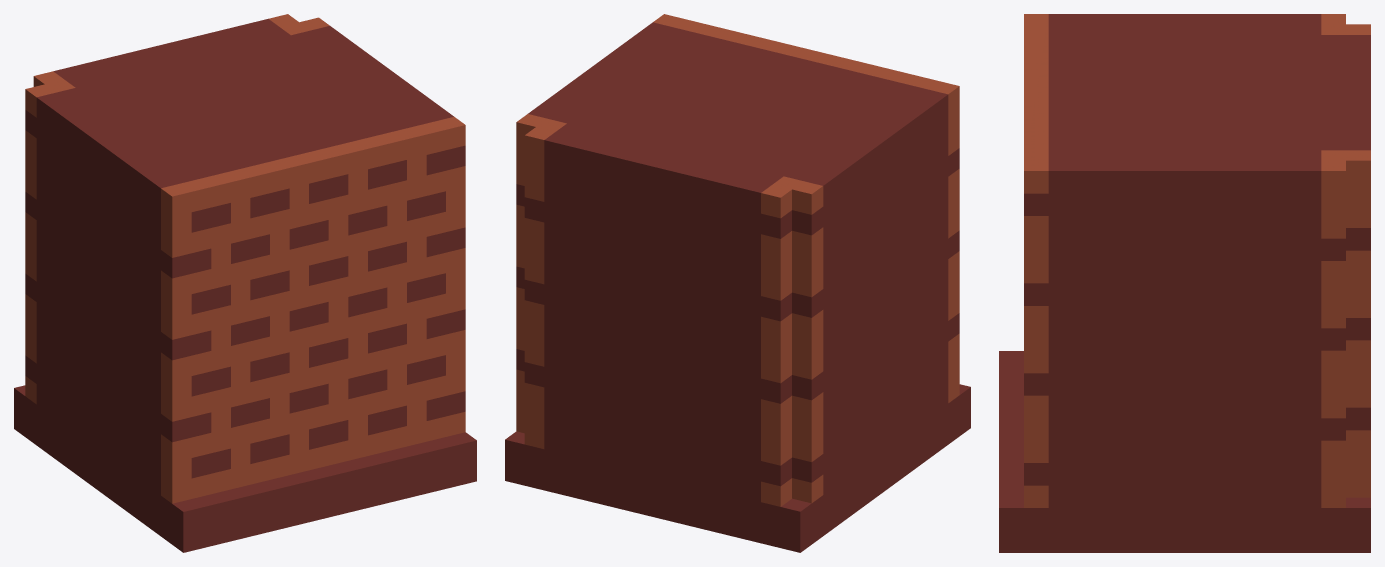
File: dungeon_b_b_inner_wall_segment_b.obj
3 renders of one model, left to right at view 1: azimuth 30°, elevation 25°; view 2: azimuth 150°, elevation 25°; view 3: azimuth 270°, elevation 25°, orthographic. The views are drawn at different scales.
Bounding box in the file's own units: 1.5 × 1.7 × 1.5.
1 material, 1 textured.
